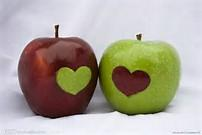apple: (16, 35, 101, 117)
